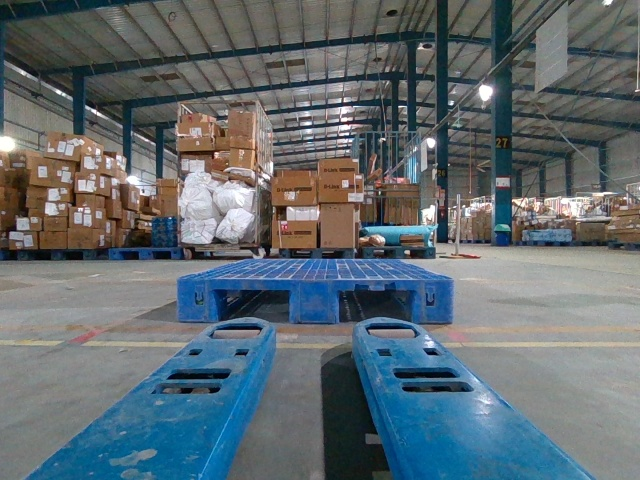block: (289, 280, 340, 326), (170, 277, 217, 326), (415, 281, 457, 325)
front: (175, 277, 455, 326)
hole pallet: (339, 292, 414, 322), (217, 291, 290, 321)
